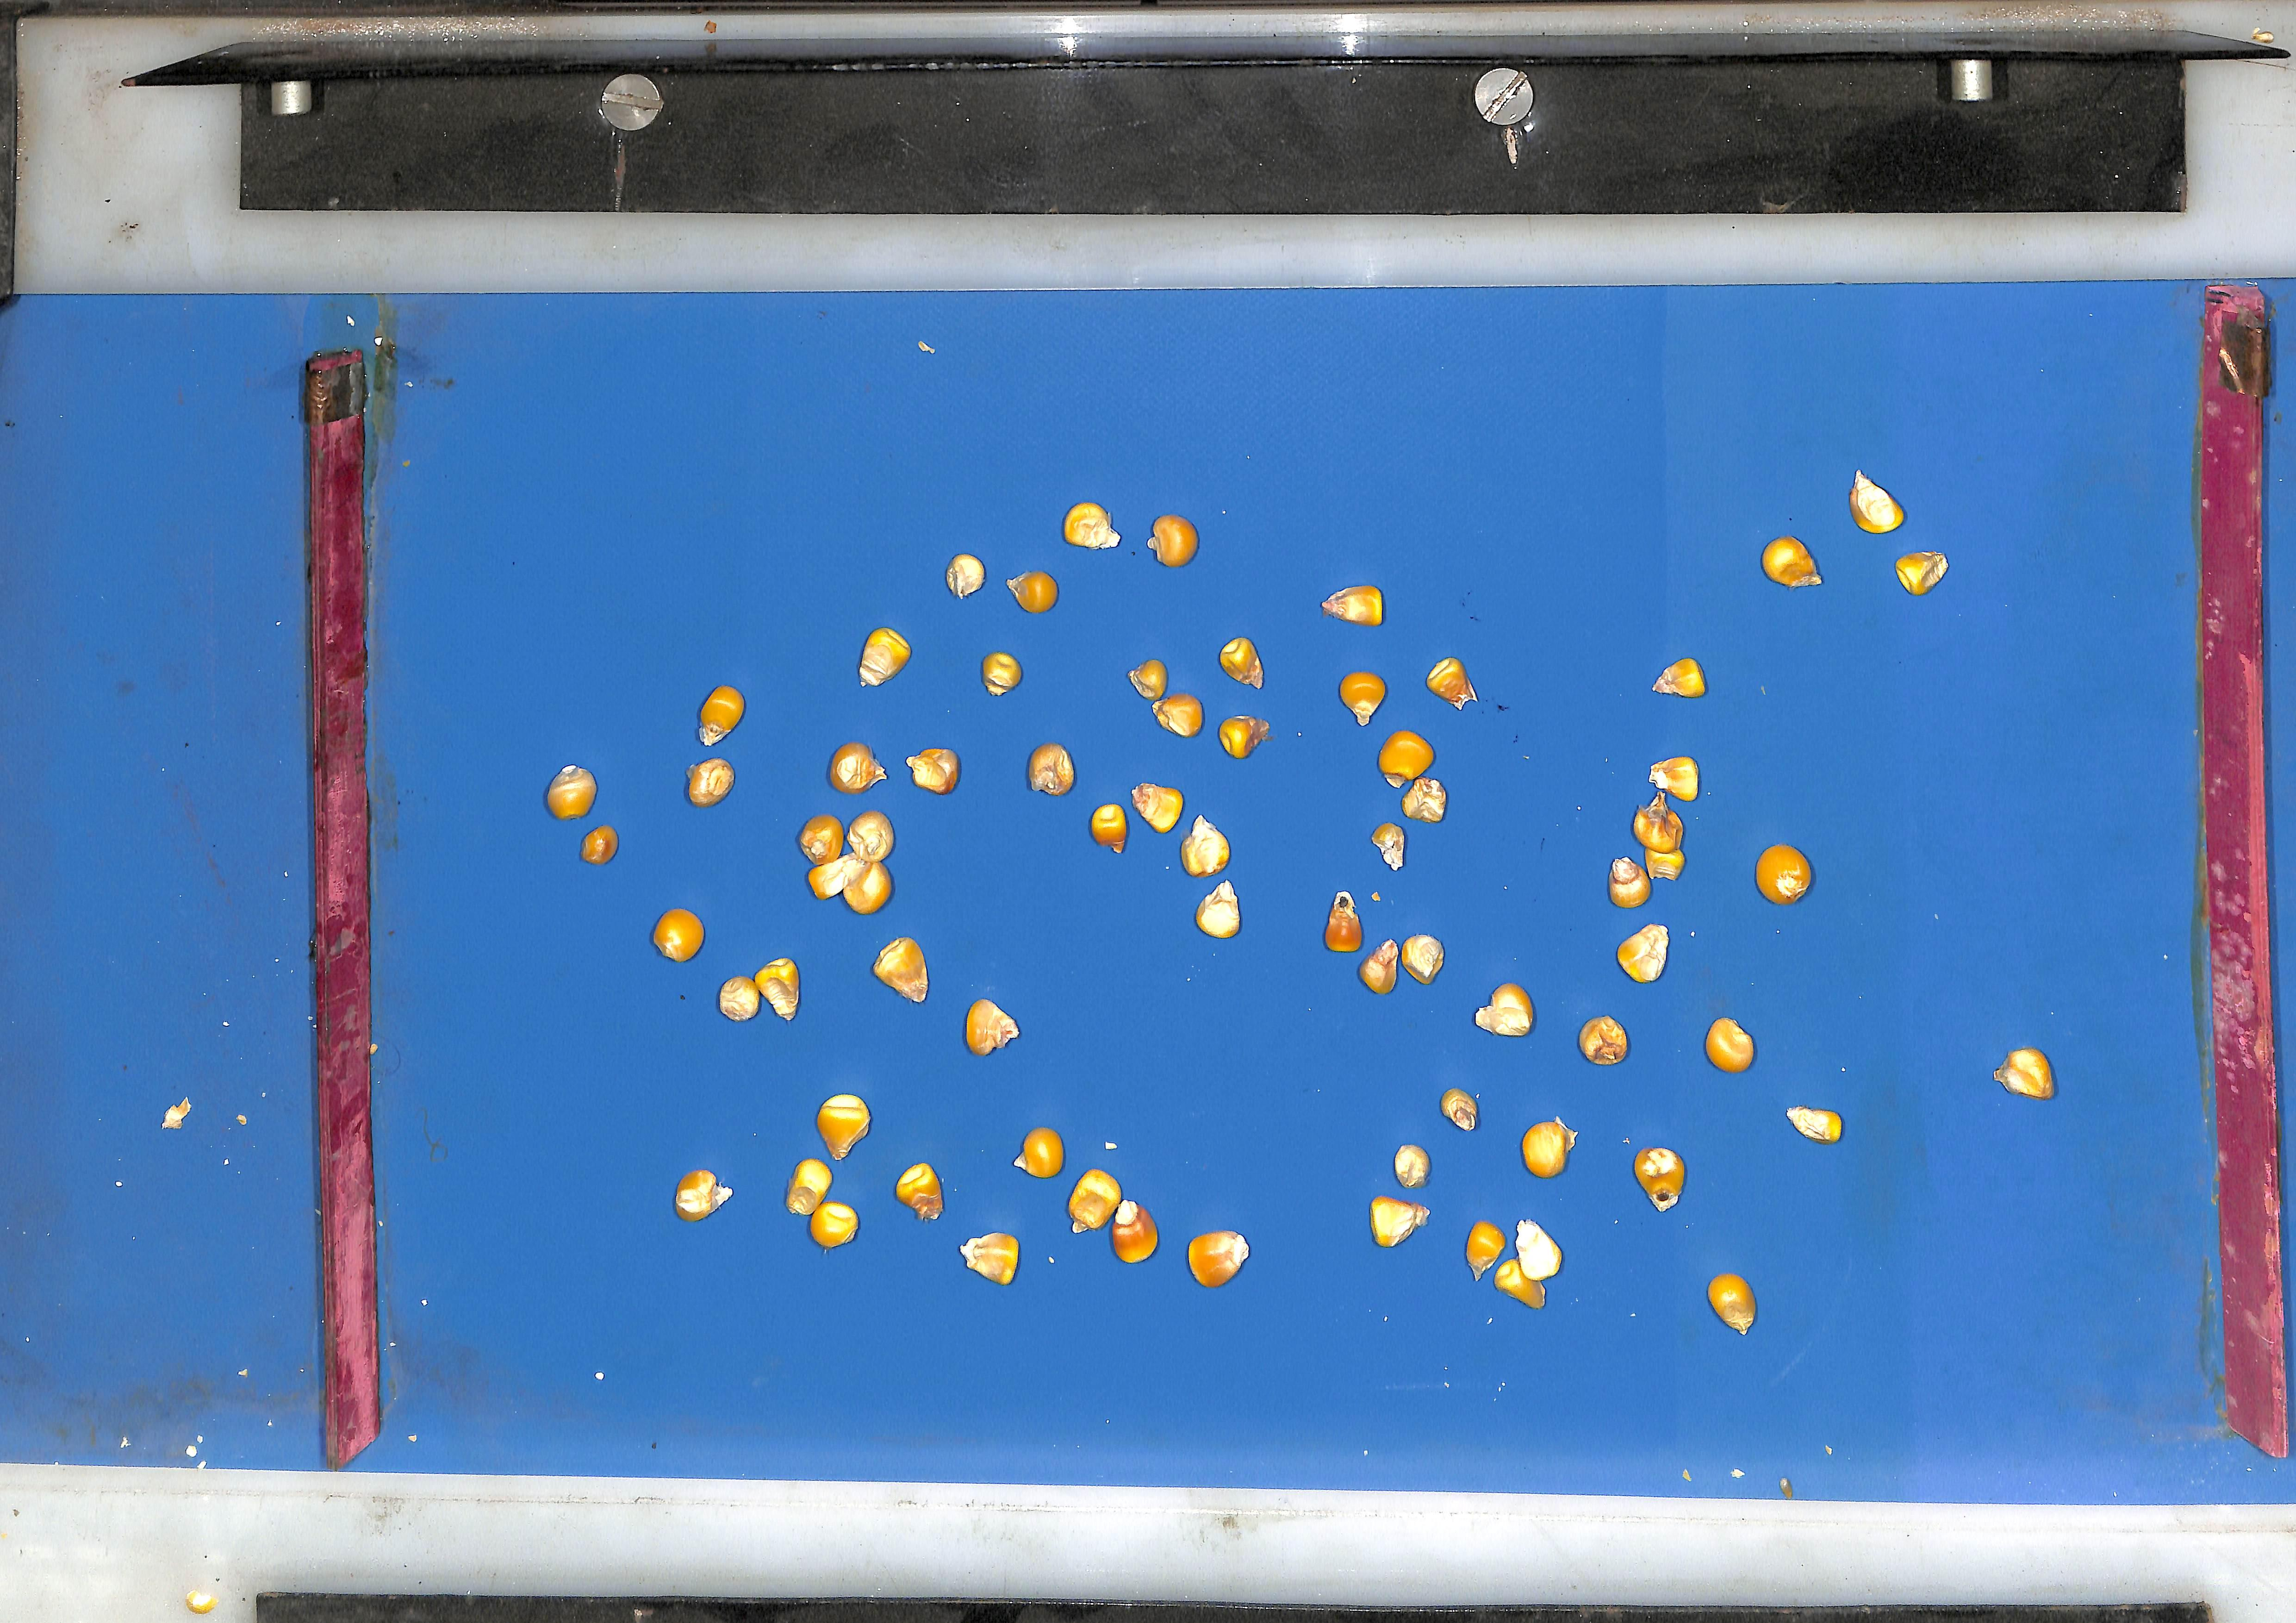Im-Sh: (717, 958, 799, 1021), (873, 937, 927, 1004), (816, 1094, 869, 1161), (1188, 1232, 1250, 1289), (1852, 468, 1908, 531), (1067, 1170, 1121, 1234), (1758, 844, 1815, 904), (1524, 1118, 1579, 1179), (1636, 1149, 1688, 1212), (1475, 983, 1536, 1037), (1997, 1048, 2059, 1100), (1380, 729, 1437, 785), (857, 626, 910, 685), (964, 999, 1019, 1056), (1634, 792, 1686, 852), (959, 1234, 1019, 1286), (1764, 534, 1824, 585), (672, 1171, 731, 1223), (1371, 1198, 1430, 1249), (1181, 815, 1231, 876), (828, 741, 886, 793), (1620, 924, 1671, 982), (1711, 1275, 1759, 1337), (1112, 1201, 1158, 1264), (1517, 1221, 1564, 1282), (894, 1164, 943, 1222), (784, 1158, 832, 1217), (807, 853, 868, 899), (840, 861, 892, 915), (651, 909, 703, 962), (544, 764, 595, 818), (1707, 1018, 1757, 1073), (1148, 512, 1199, 565), (1195, 880, 1241, 938), (1064, 500, 1120, 547), (1428, 656, 1479, 708), (1496, 1261, 1548, 1311), (1131, 783, 1184, 831), (1027, 742, 1075, 794), (1580, 1017, 1631, 1066), (906, 747, 959, 793), (1323, 584, 1384, 624), (846, 809, 894, 861), (797, 814, 845, 865), (1341, 671, 1388, 723), (1325, 891, 1364, 953), (685, 757, 734, 806), (1466, 1222, 1508, 1279), (1898, 549, 1951, 593), (1219, 636, 1264, 687), (1018, 1129, 1064, 1179), (809, 1202, 858, 1249), (1219, 715, 1270, 758), (1359, 940, 1400, 994), (1401, 934, 1445, 984), (1651, 756, 1702, 800), (1402, 776, 1449, 822), (1154, 693, 1203, 736), (1789, 1106, 1846, 1144), (1611, 857, 1653, 907), (1655, 657, 1708, 696), (698, 684, 744, 730), (1008, 570, 1058, 611), (716, 976, 759, 1021), (1090, 803, 1128, 852), (981, 650, 1022, 694), (945, 552, 985, 595), (1394, 1145, 1432, 1190), (1128, 658, 1167, 700), (1372, 823, 1406, 870), (1442, 1090, 1480, 1132), (579, 824, 617, 865), (1646, 847, 1687, 880)
